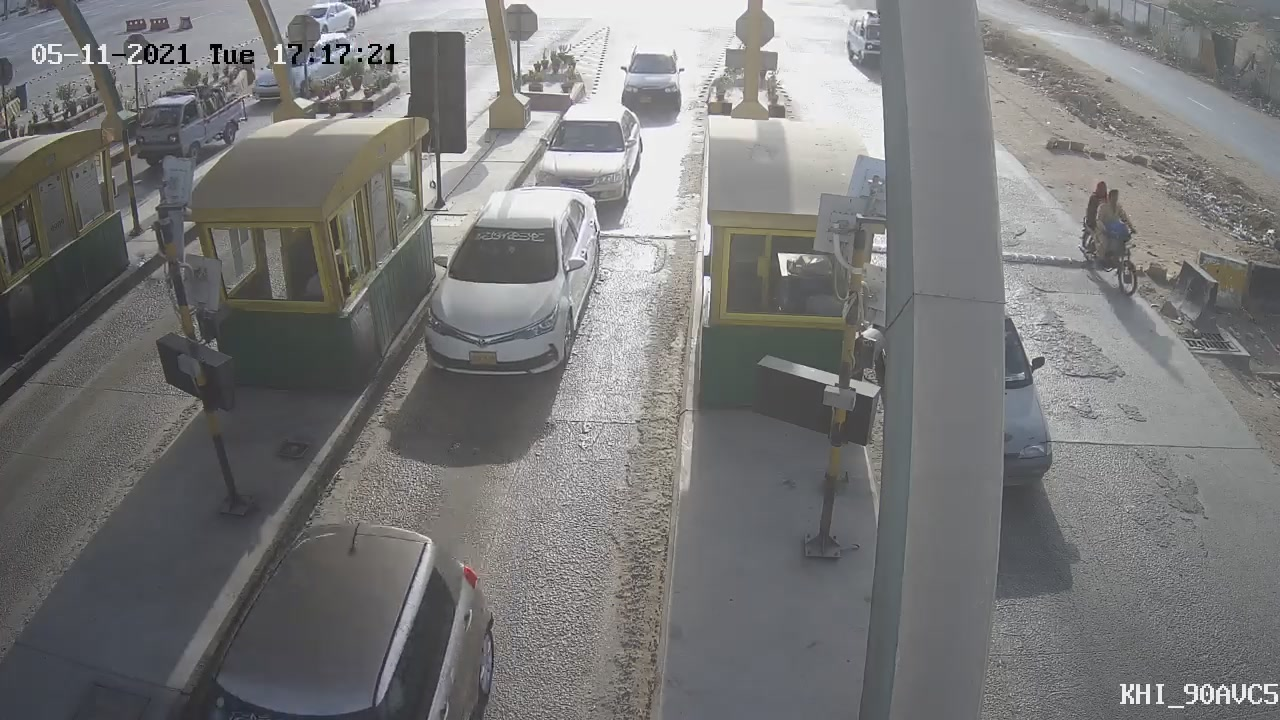F1: (405, 172, 618, 392), (525, 94, 656, 222)
